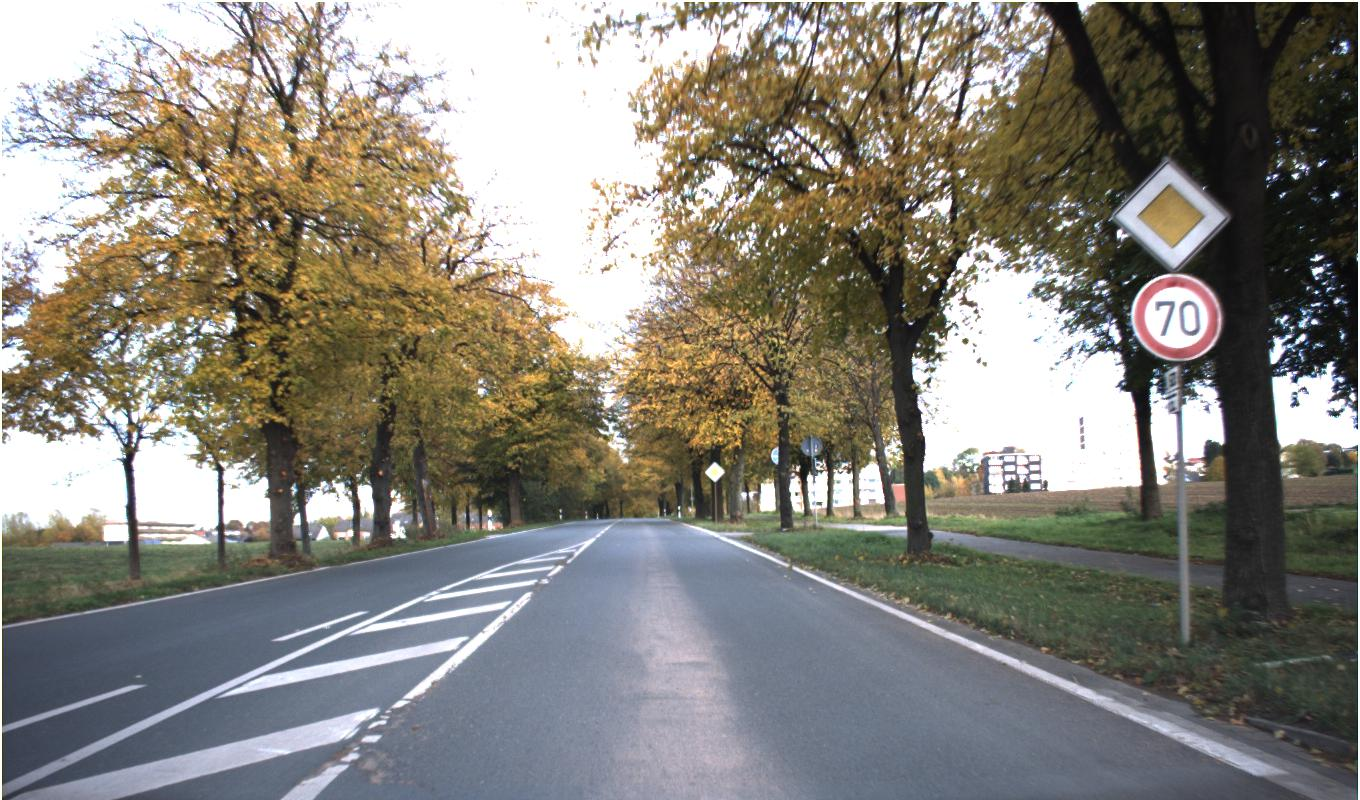prohibitory: (1131, 274, 1221, 361)
sign: (1110, 158, 1231, 273), (703, 461, 725, 483)
